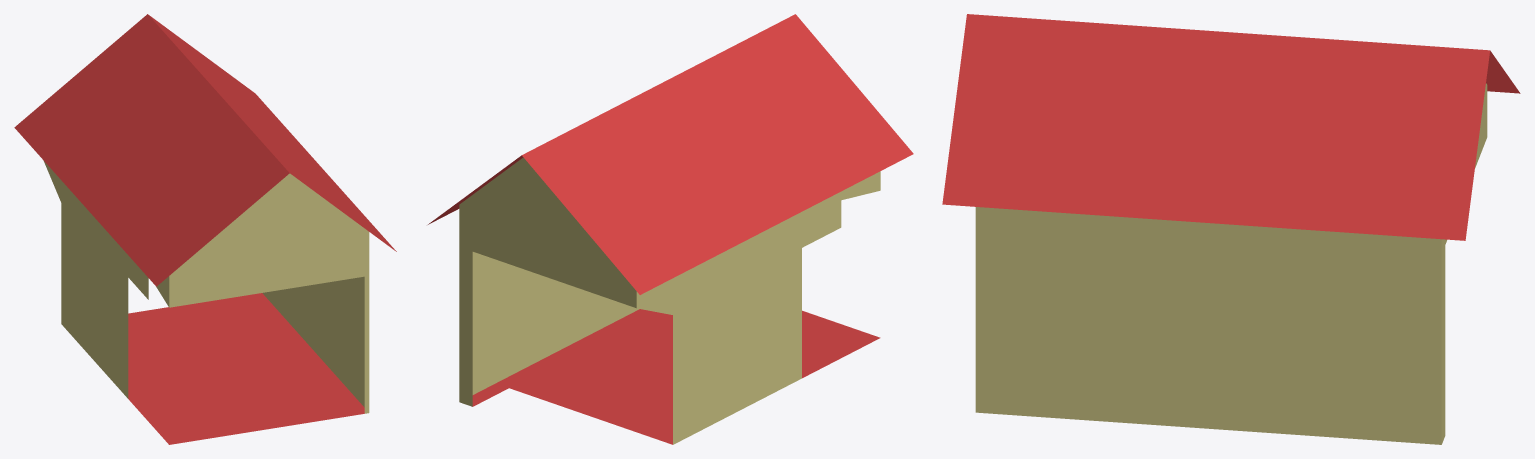
The picture shows the model from 3 angles, left to right: view 1: azimuth 30°, elevation 25°; view 2: azimuth 150°, elevation 25°; view 3: azimuth 270°, elevation 25°; orthographic projection. The views are drawn at different scales.
Bounding box in the file's own units: 14.58 × 20.04 × 13.21.
